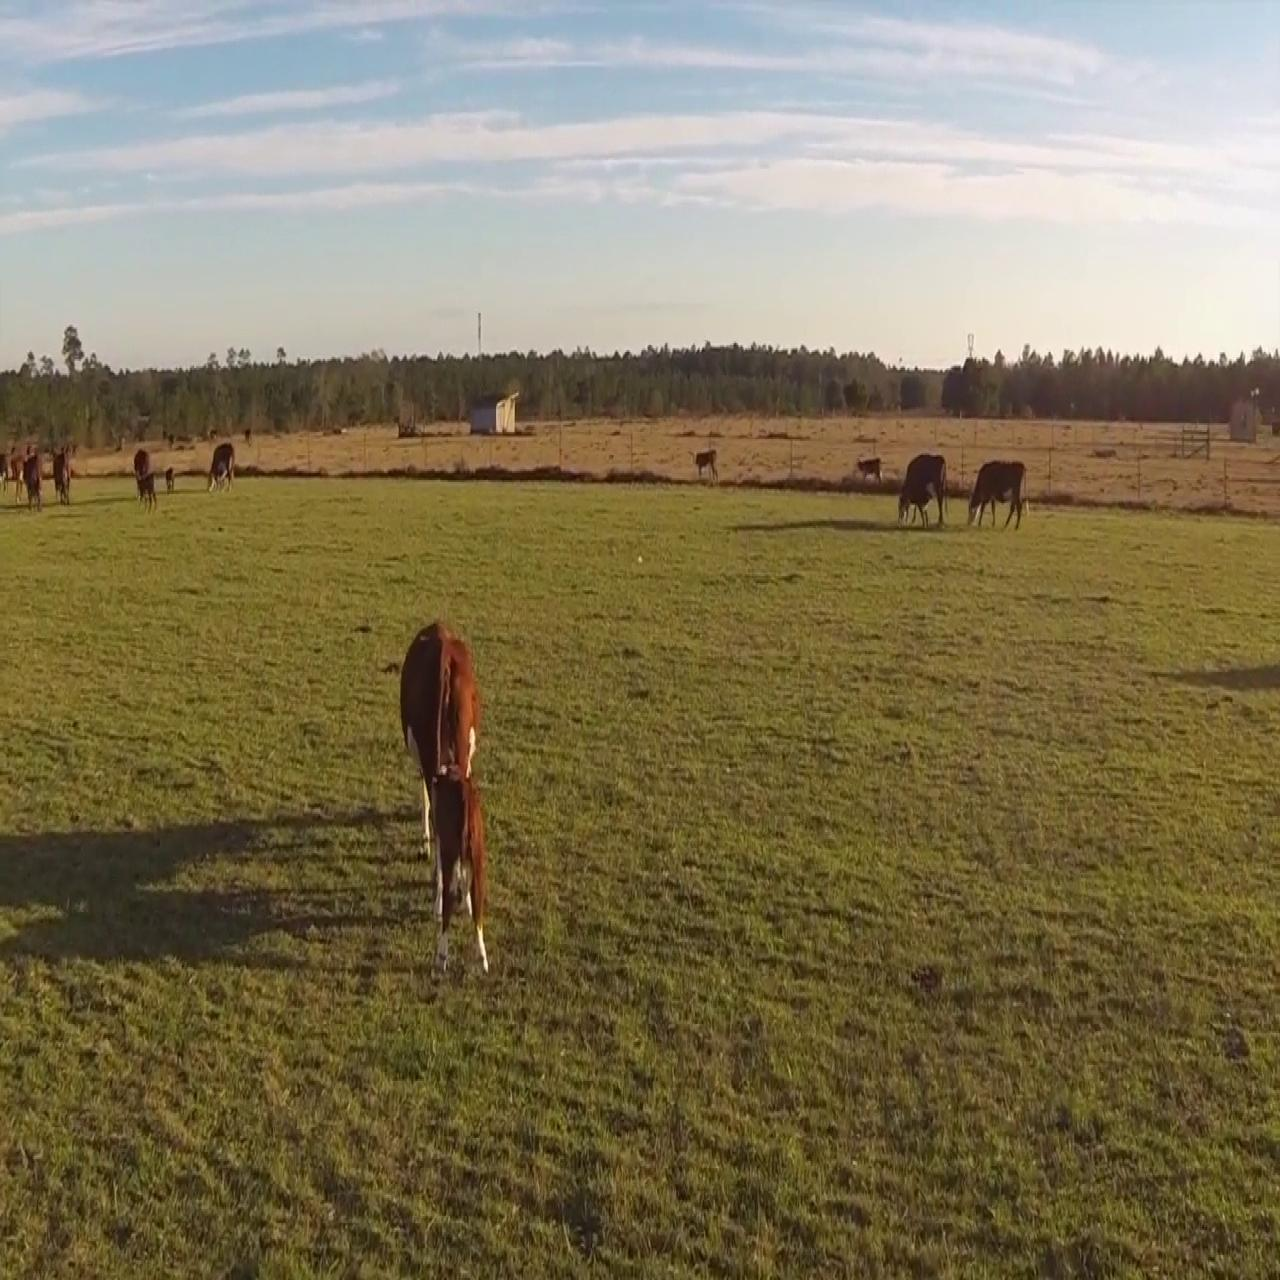cow: (400, 611, 489, 982), (962, 442, 1033, 543), (892, 436, 953, 539), (129, 440, 163, 516), (203, 440, 237, 499)
